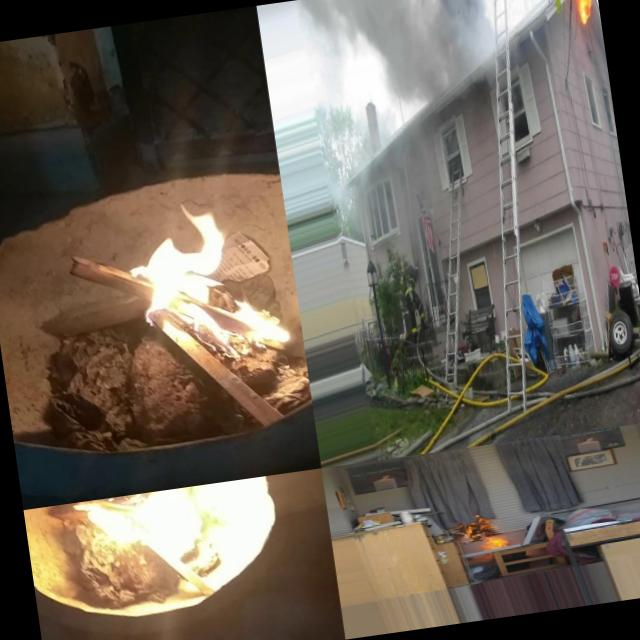fire: (123, 185, 306, 386), (57, 482, 236, 582), (462, 514, 506, 554), (567, 0, 602, 31)
smoke: (297, 0, 508, 115)
